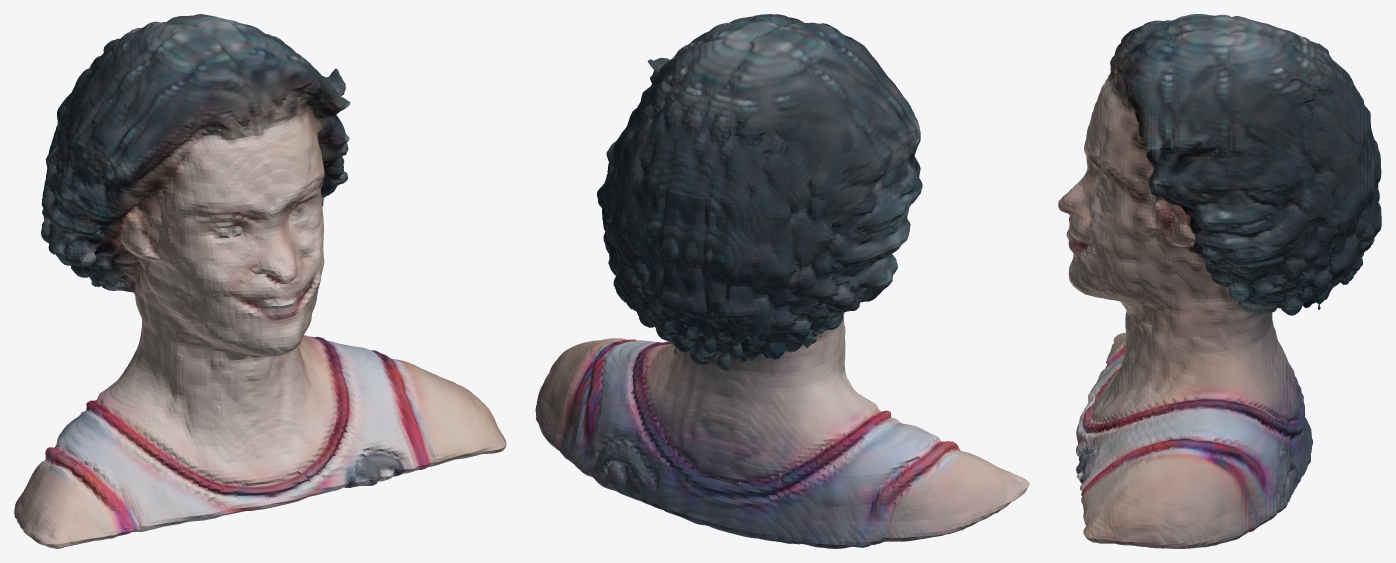
3 renders of one model, left to right at view 1: azimuth 30°, elevation 25°; view 2: azimuth 150°, elevation 25°; view 3: azimuth 270°, elevation 25°, orthographic. The views are drawn at different scales.
Parts seen in each view (by area): view 1: geometry_0; view 2: geometry_0; view 3: geometry_0.
Boxes of the visible parts, x1,y1,x2,y2 form: geometry_0: (14,14,506,548); geometry_0: (535,14,1029,548); geometry_0: (1058,14,1381,548).
Bounding box in the file's own units: 0.986 × 0.933 × 0.6346.
